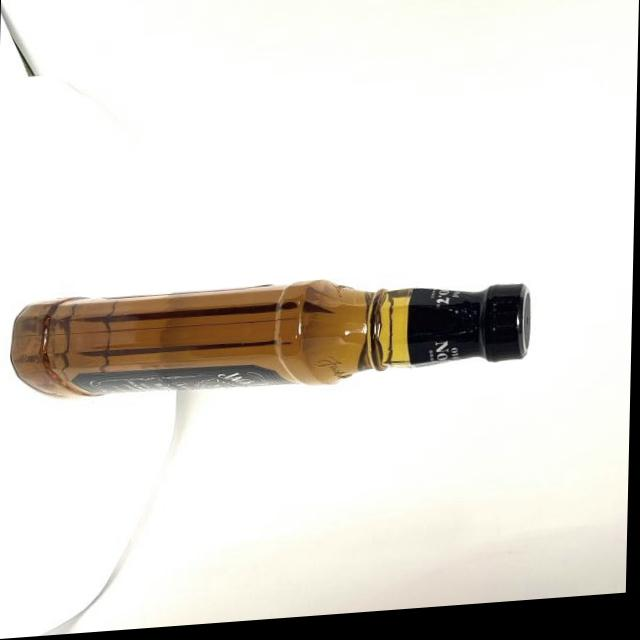JACK DANIELS BLACK 375ML: (4, 251, 541, 452)
